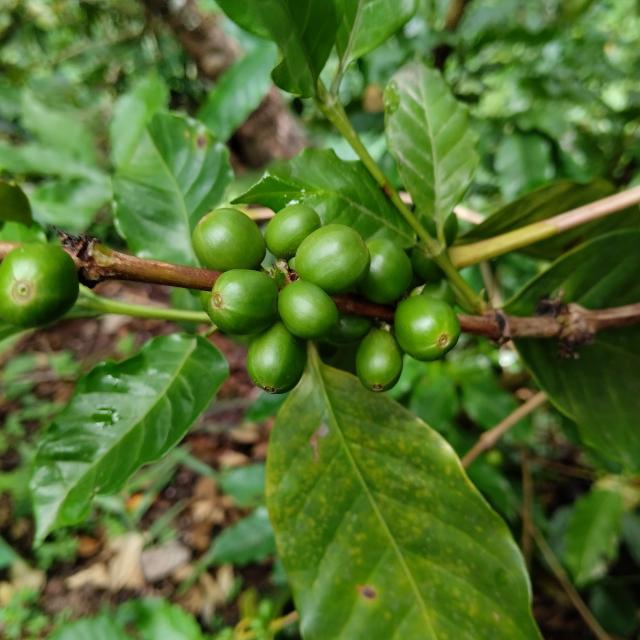green: (0, 243, 78, 328), (295, 224, 371, 295), (206, 269, 278, 335), (192, 208, 266, 271), (246, 320, 306, 394), (395, 294, 461, 361), (358, 238, 413, 304), (278, 280, 339, 339), (264, 204, 321, 259), (356, 328, 403, 392)
